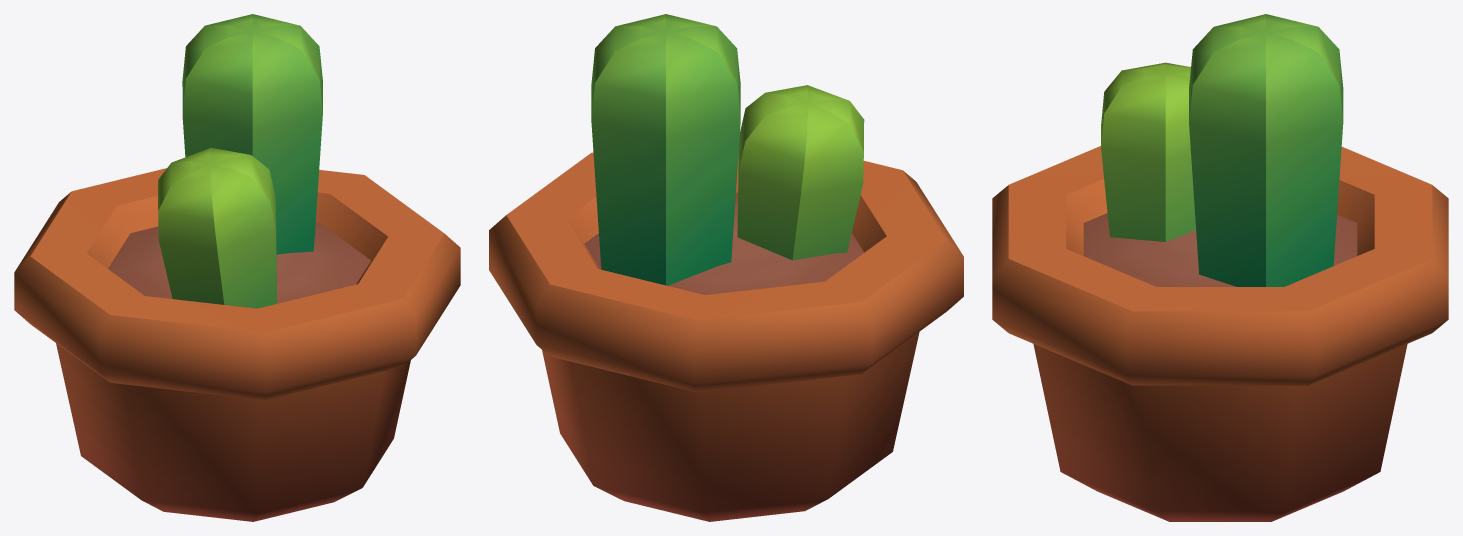
Rendered from kkf.cactus_small_a.glb.
The picture shows the model from 3 angles, left to right: view 1: azimuth 30°, elevation 25°; view 2: azimuth 150°, elevation 25°; view 3: azimuth 270°, elevation 25°; orthographic projection. The views are drawn at different scales.
Visible parts, largest first — view 1: cactus_small_A; view 2: cactus_small_A; view 3: cactus_small_A.
Part boxes in pixels (left/top/right/bottom): cactus_small_A: left=14, top=14, right=460, bottom=521; cactus_small_A: left=489, top=14, right=963, bottom=521; cactus_small_A: left=992, top=14, right=1448, bottom=521.
Size of the model in its own units: 0.1789 by 0.1973 by 0.1789.
1 material, 1 textured.
